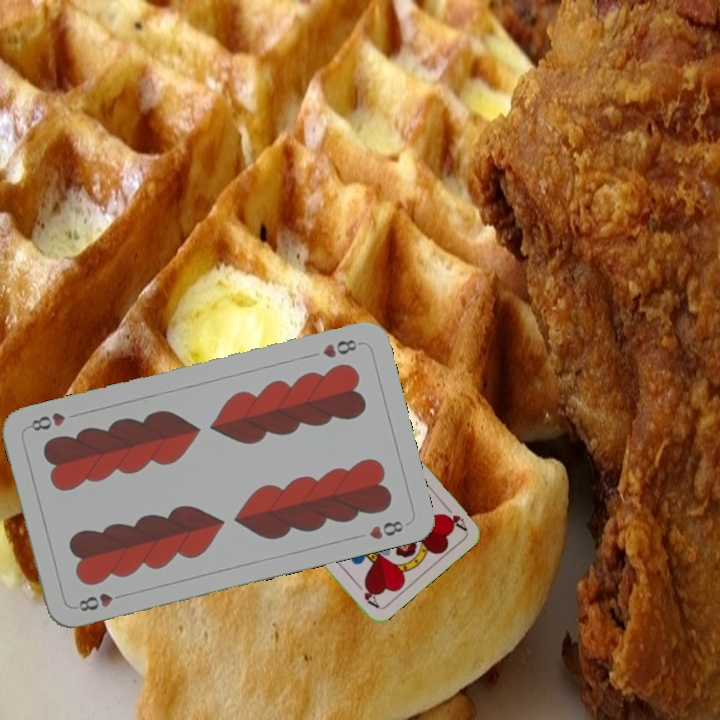H8: (318, 335, 364, 361), (74, 589, 115, 614)
HA: (438, 498, 469, 533)
